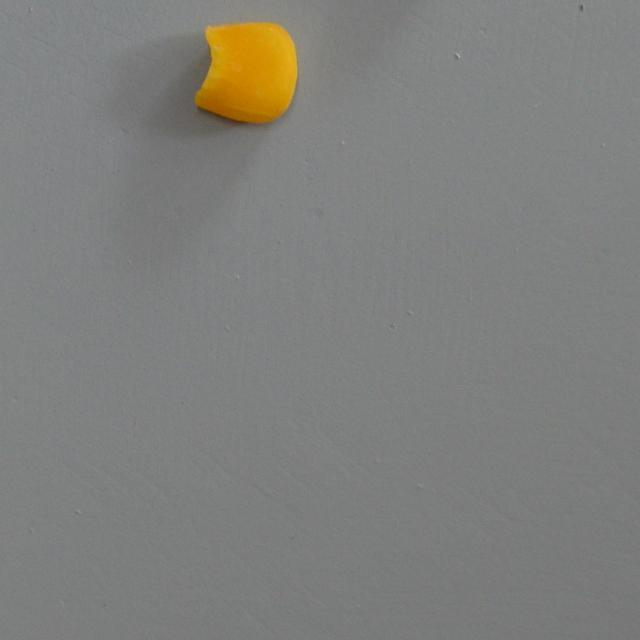no_canjicado: (195, 20, 300, 125)
